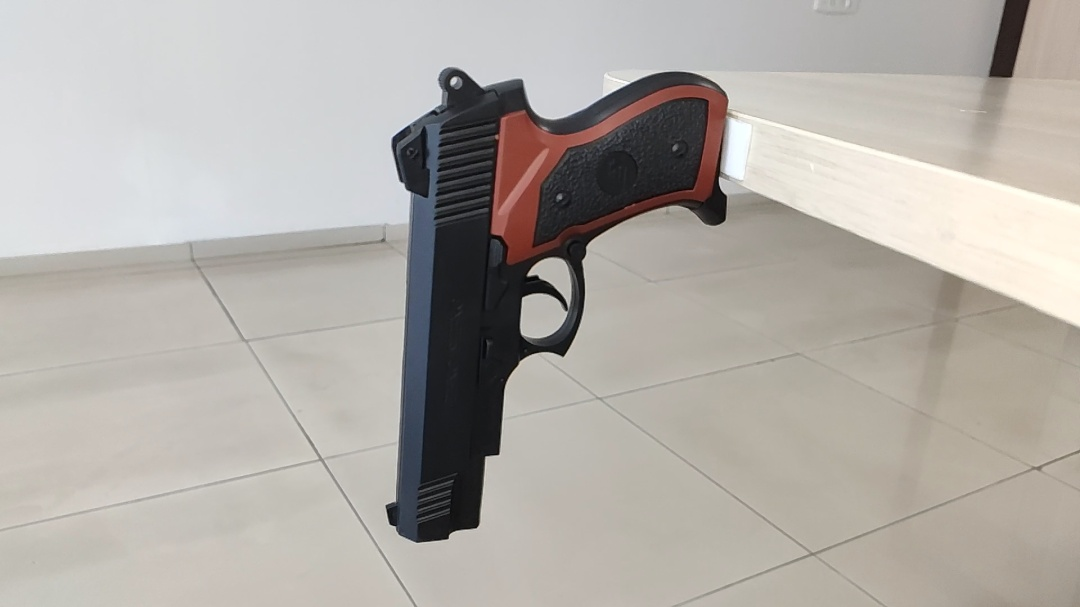gun: (495, 272, 651, 358)
